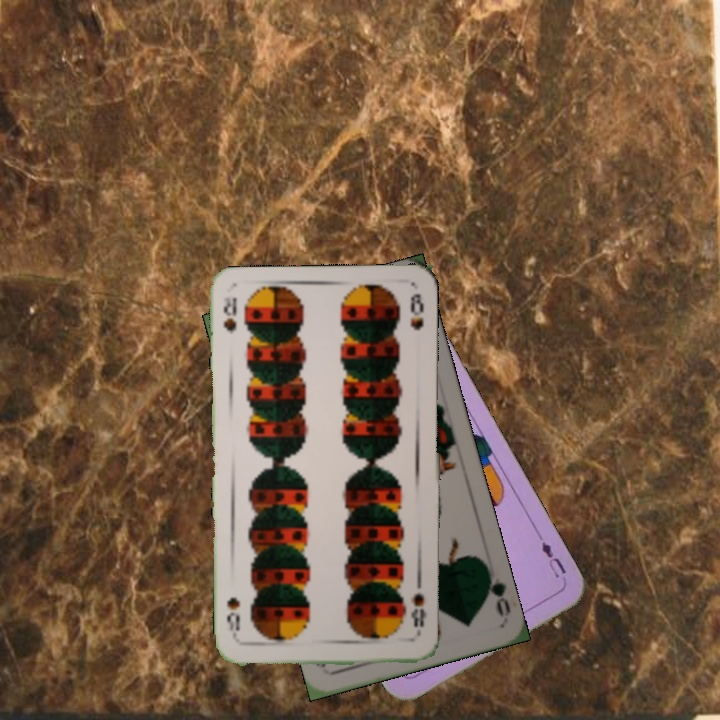EU: (537, 537, 569, 581)
GO: (481, 563, 514, 620)
S8: (406, 589, 429, 638), (219, 293, 239, 337)
